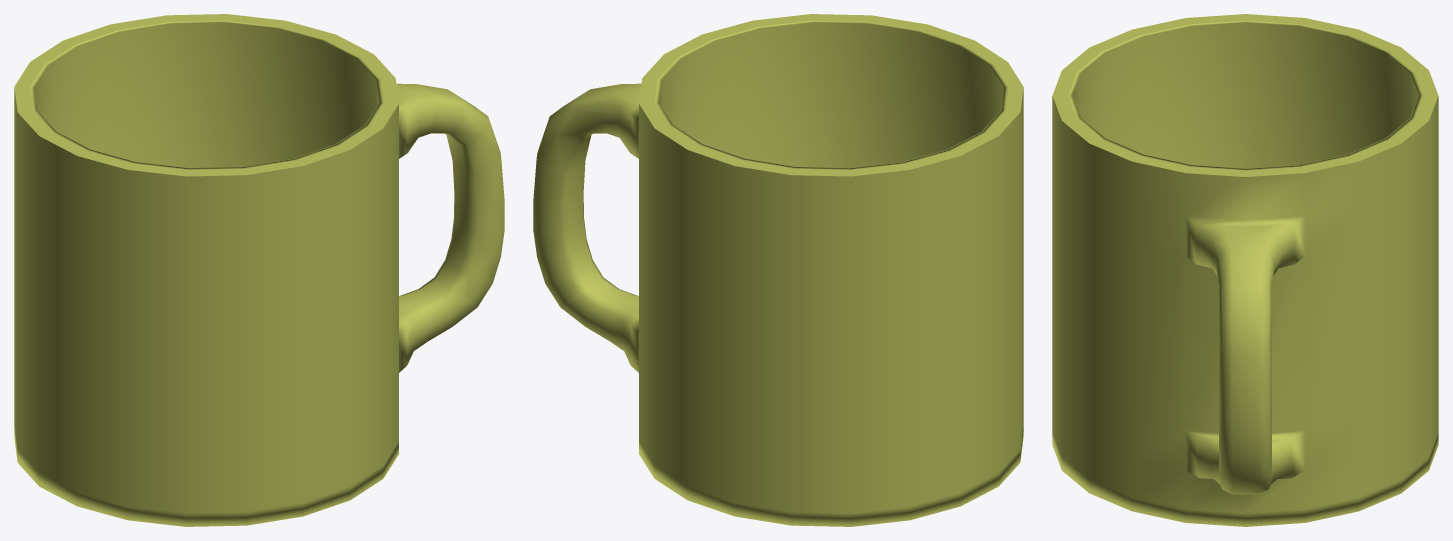
File: Cup.fbx
The picture shows the model from 3 angles, left to right: view 1: azimuth 30°, elevation 25°; view 2: azimuth 150°, elevation 25°; view 3: azimuth 270°, elevation 25°; orthographic projection.
Parts seen in each view (by area): view 1: Cup; view 2: Cup; view 3: Cup.
Part boxes in pixels (x1,y1,x2,y2): Cup: [14, 14, 504, 526]; Cup: [533, 14, 1023, 526]; Cup: [1052, 14, 1438, 526].
Bounding box in the file's own units: 11.98 × 8.75 × 8.75.
